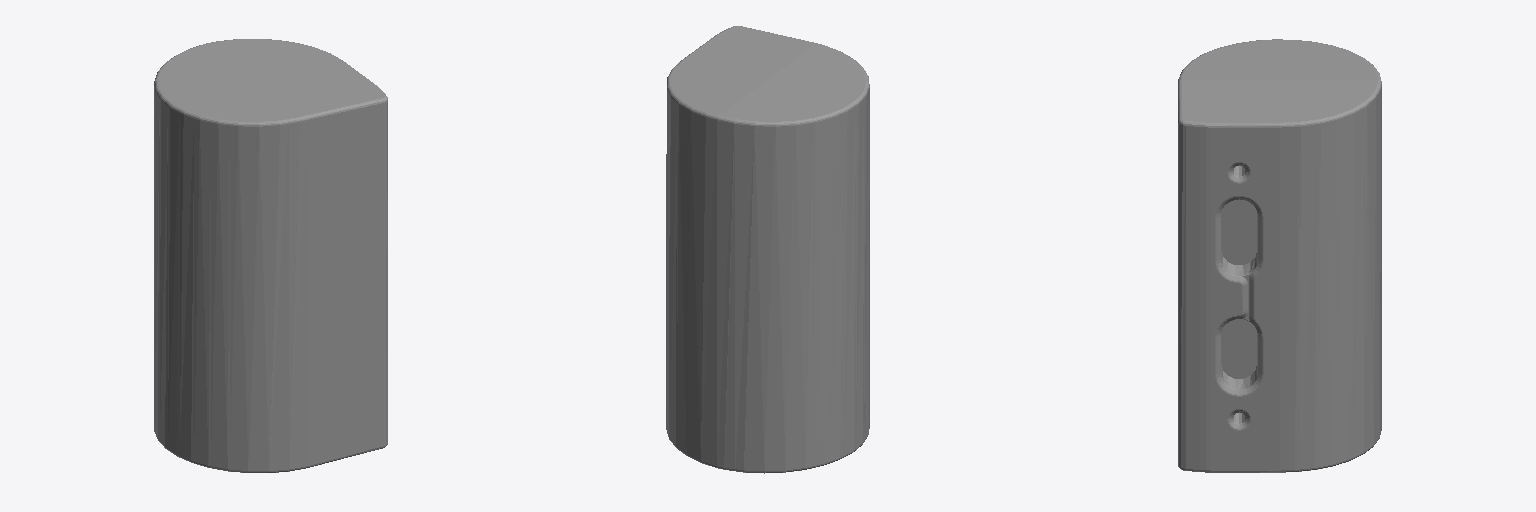
Rendered from head_tilt_link.obj.
3 views of the same model, side by side, from view 1: azimuth 30°, elevation 25°; view 2: azimuth 150°, elevation 25°; view 3: azimuth 270°, elevation 25° (orthographic).
Visible parts, largest first — view 1: head_tilt_link_head_tilt_link; view 2: head_tilt_link_head_tilt_link; view 3: head_tilt_link_head_tilt_link.
Boxes of the visible parts, <box> form: head_tilt_link_head_tilt_link: <box>154,39,387,472</box>; head_tilt_link_head_tilt_link: <box>666,26,869,473</box>; head_tilt_link_head_tilt_link: <box>1178,39,1381,472</box>.
Size of the model in its own units: 0.1099 by 0.21 by 0.11.